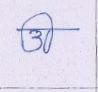i_matra: (39, 11, 56, 53)
